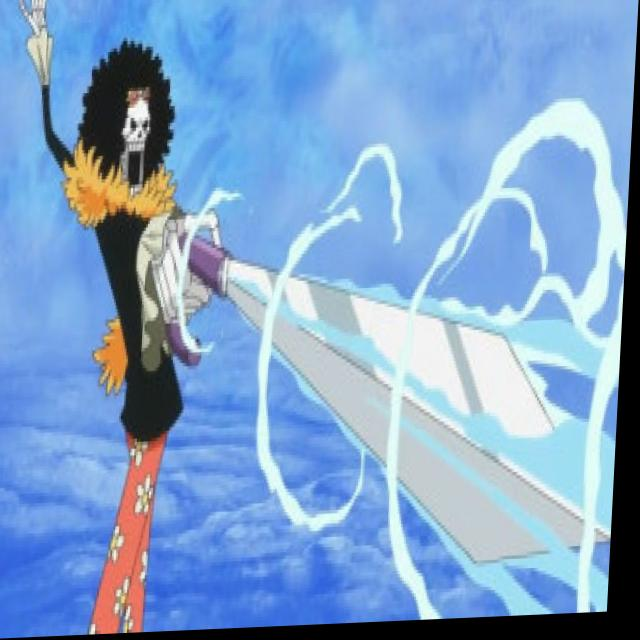Blook: (72, 24, 185, 209)
